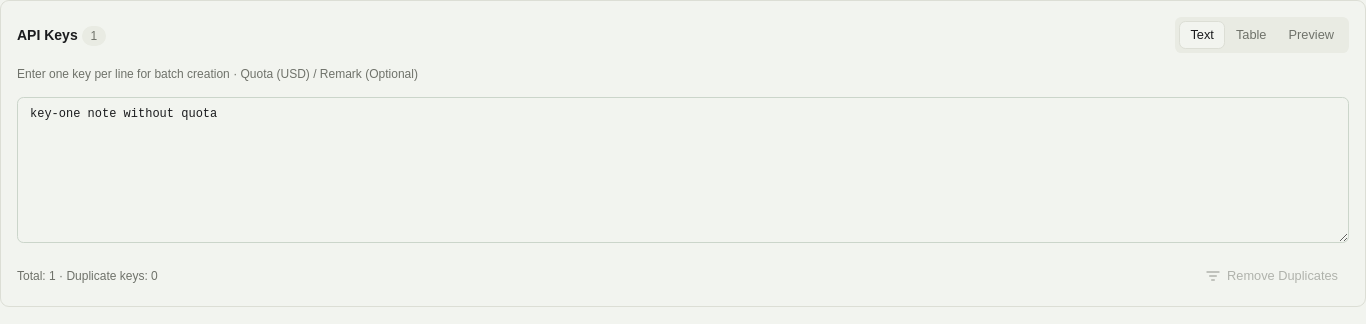
batch Key editor › retains a note without quota when switching text to table and back
Click the button "Table": {"x": 1251, "y": 35} top-left (1225, 21), bottom-right (1278, 49)
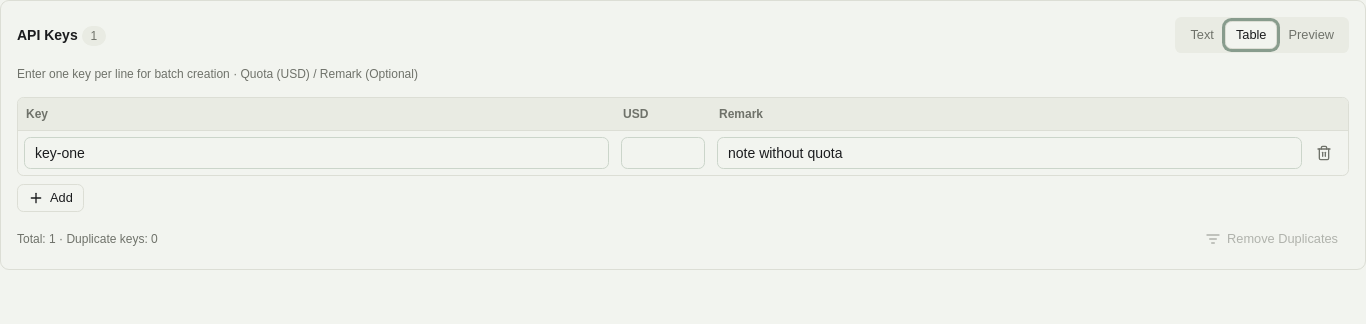
Now the field named "Remark 1" holds "note without quota", box top-left (717, 136), bottom-right (1302, 168)
In the number field named "Quota 1": {"x": 663, "y": 152} top-left (621, 136), bottom-right (705, 168), type "12.5"
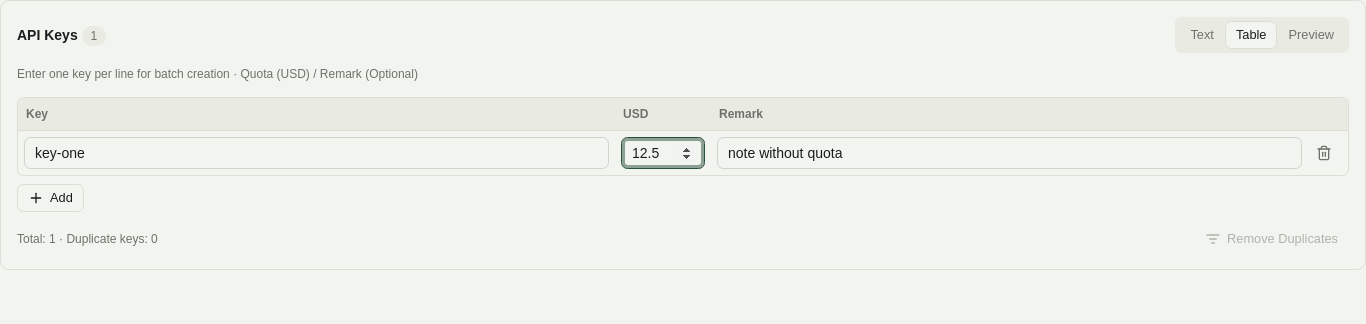
Click the button "Text": {"x": 1202, "y": 35} top-left (1179, 21), bottom-right (1225, 49)
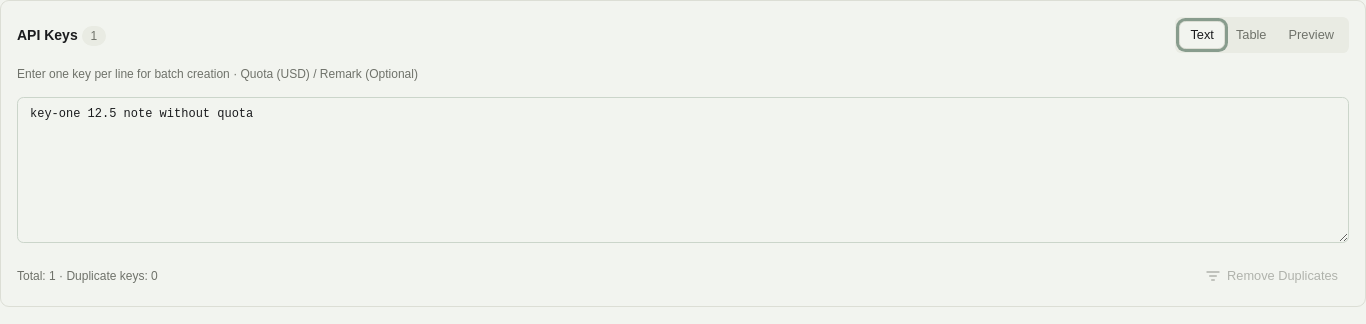
Now the text box holds "key-one 12.5 note without quota", box top-left (17, 96), bottom-right (1349, 242)
